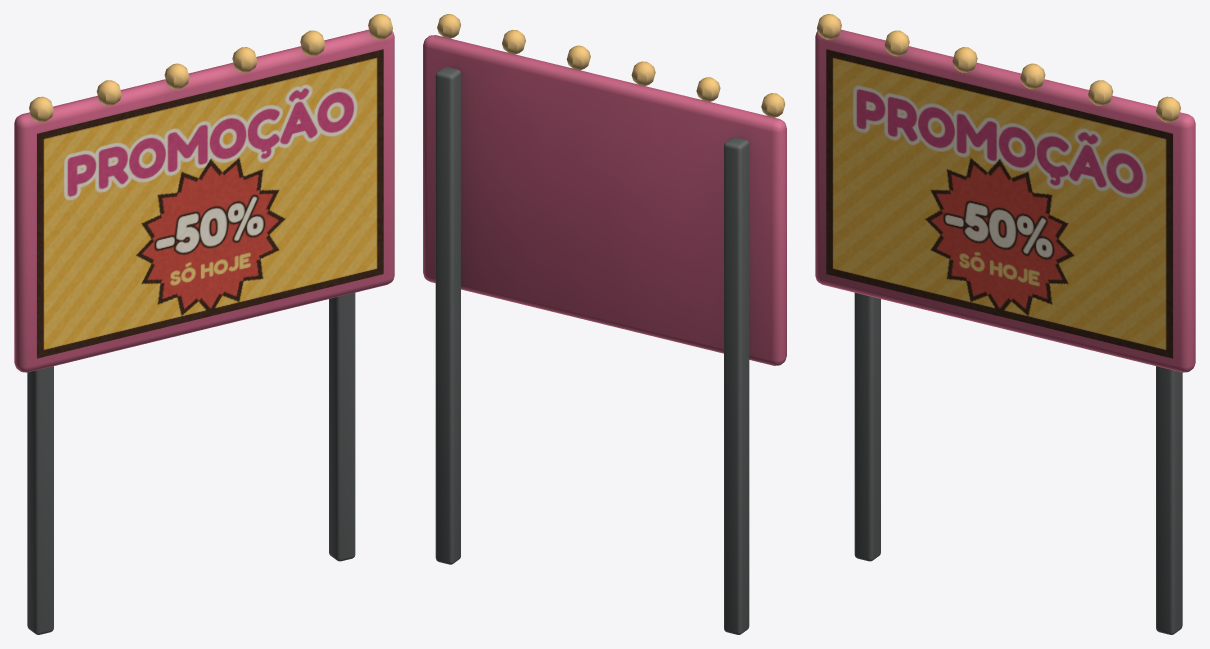
File: RivalBoard.fbx
3 renders of one model, left to right at view 1: azimuth 30°, elevation 25°; view 2: azimuth 150°, elevation 25°; view 3: azimuth 330°, elevation 25°, orthographic. The views are drawn at different scales.
Parts seen in each view (by area): view 1: RivalBoard; view 2: RivalBoard; view 3: RivalBoard.
Boxes of the visible parts, box(x1,y1,x2,y2) form: RivalBoard: box(14, 14, 394, 634); RivalBoard: box(423, 14, 786, 634); RivalBoard: box(815, 14, 1195, 634).
Size of the model in its own units: 200 by 280 by 29.
